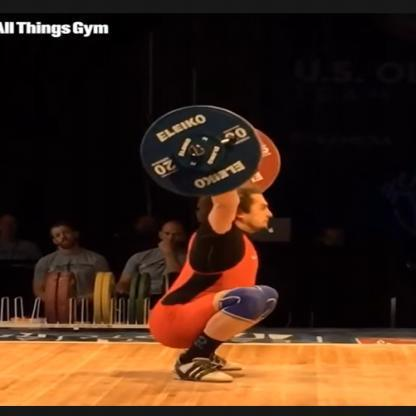barbell: (138, 104, 282, 199)
